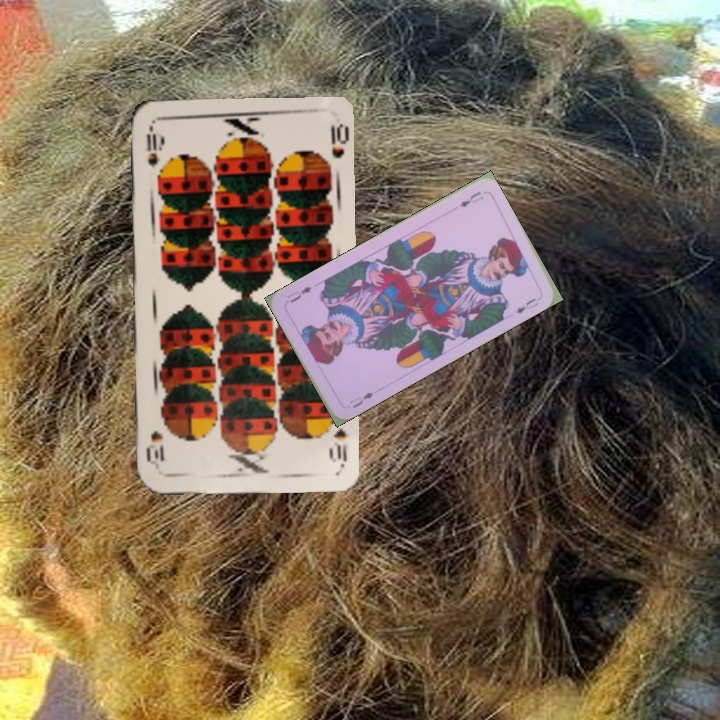EU: (345, 388, 376, 411), (455, 187, 486, 210)
S10: (326, 424, 349, 468), (143, 122, 162, 170)
